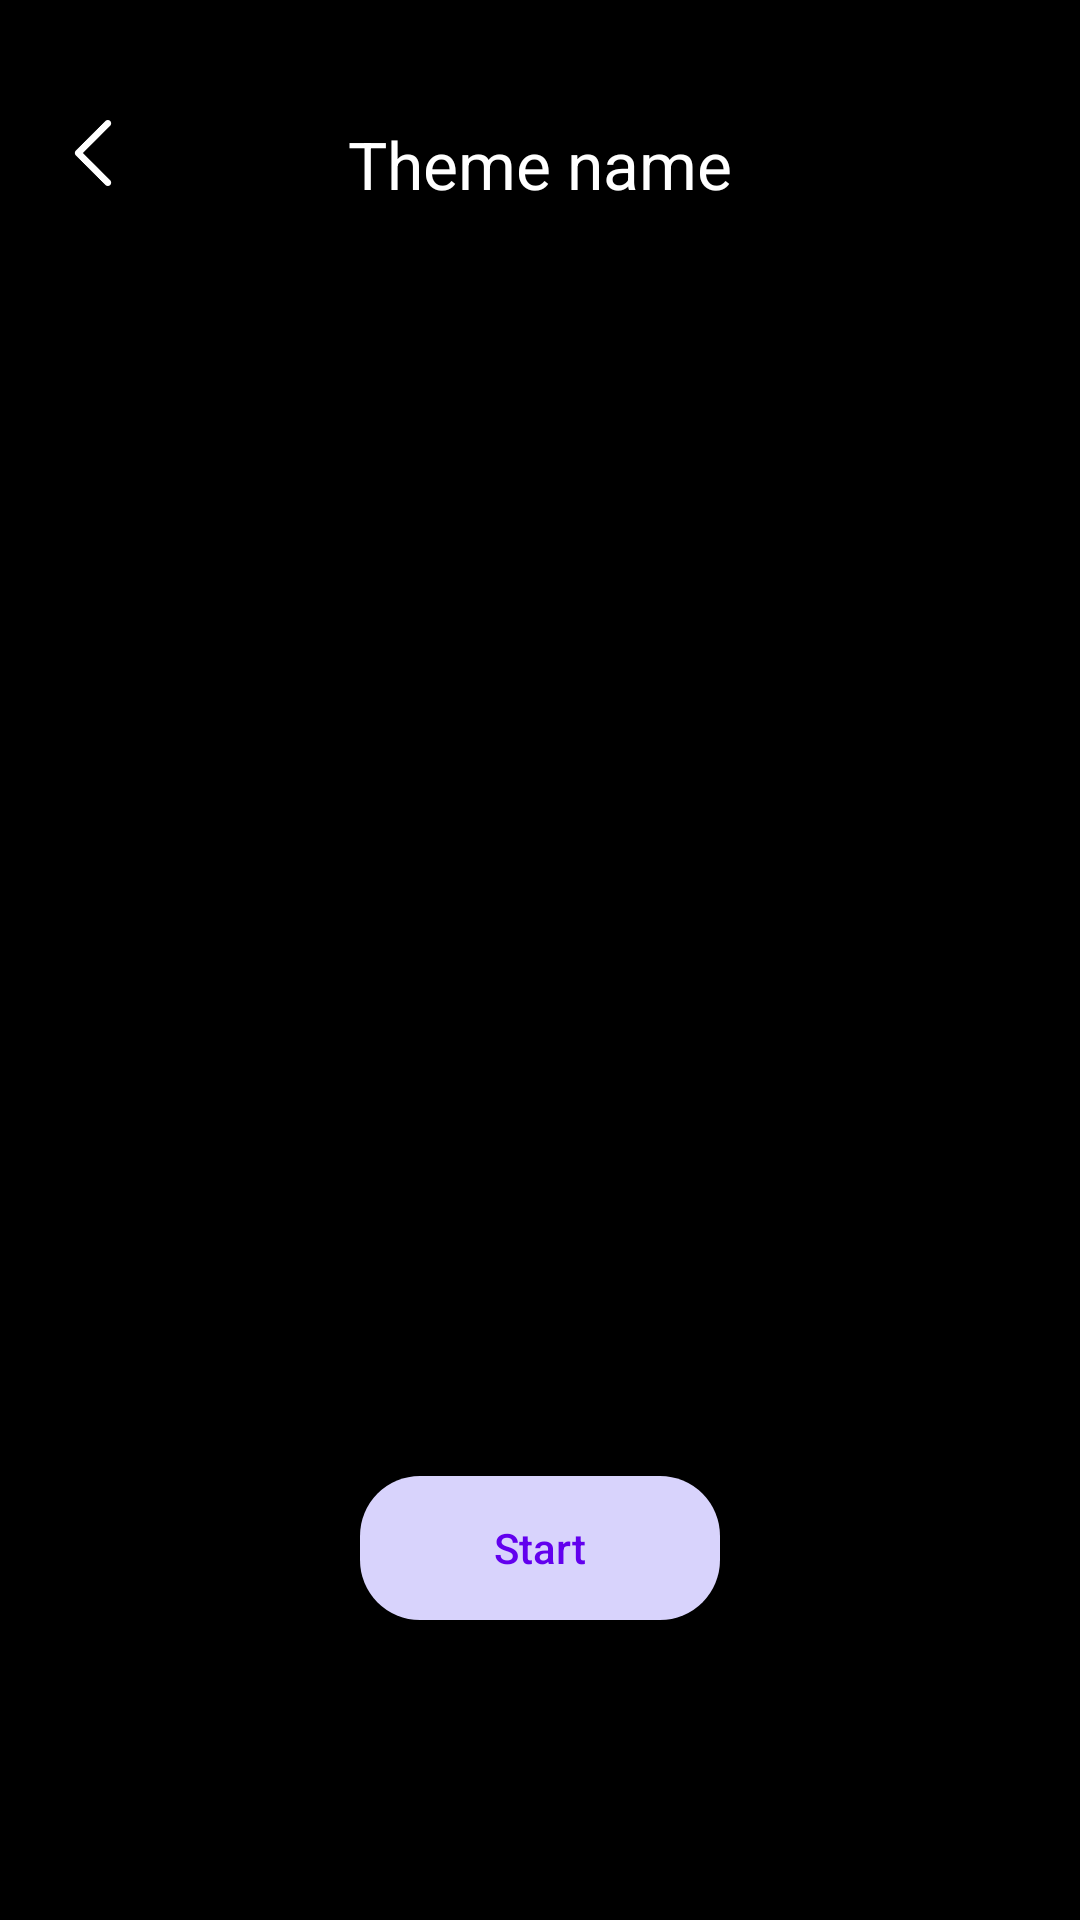

Screen size 1080w x 1920h. Icon name, then its center in pixels as (x=x, y=y):
back: (x=93, y=153)
